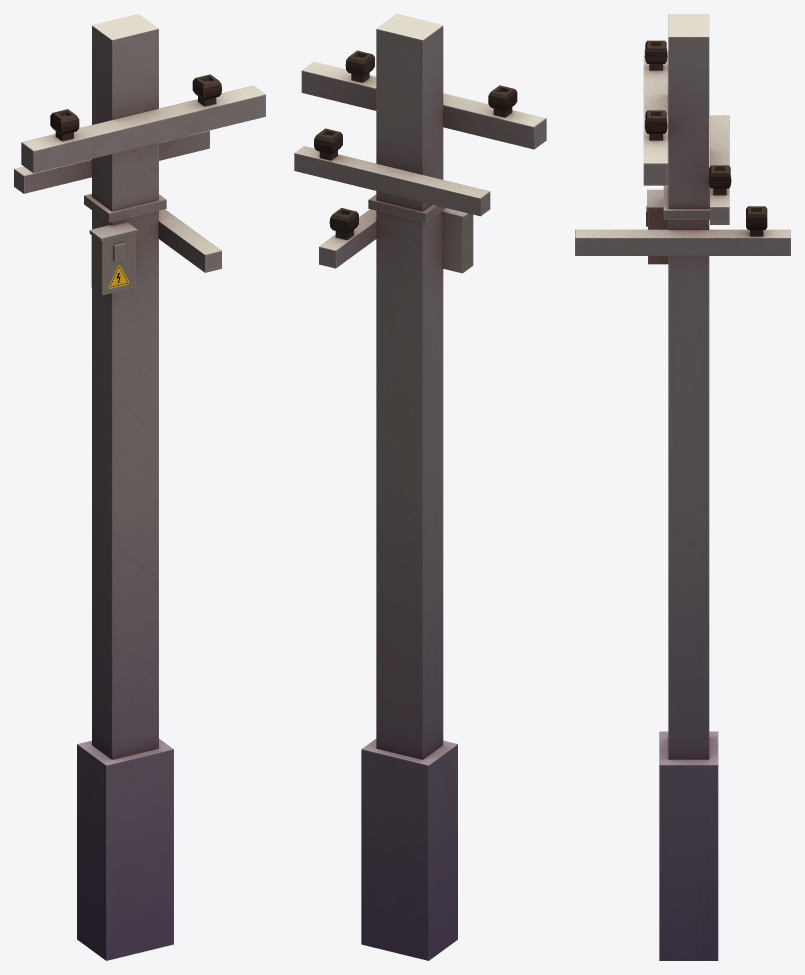
File: poste.glb
3 views of the same model, side by side, from view 1: azimuth 30°, elevation 25°; view 2: azimuth 150°, elevation 25°; view 3: azimuth 270°, elevation 25° (orthographic).
Parts seen in each view (by area): view 1: Cube.052, Cube.064, Cube.021; view 2: Cube.052, Cube.021, Cube.064; view 3: Cube.052, Cube.021, Cube.064.
Boxes of the visible parts, x1=… form: Cube.052: x1=14, y1=14, x2=265, y2=960; Cube.064: x1=89, y1=222, x2=137, y2=295; Cube.021: x1=50, y1=74, x2=221, y2=141; Cube.052: x1=294, y1=14, x2=546, y2=960; Cube.021: x1=314, y1=50, x2=517, y2=239; Cube.064: x1=442, y1=208, x2=473, y2=273; Cube.052: x1=575, y1=14, x2=790, y2=960; Cube.021: x1=644, y1=40, x2=767, y2=236; Cube.064: x1=646, y1=189, x2=668, y2=264.
Bounding box in the file's own units: 1.49 × 5.6 × 1.19.
Materials: 3 (3 with a texture image).
